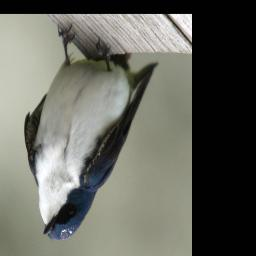Swallow: (23, 22, 159, 241)
